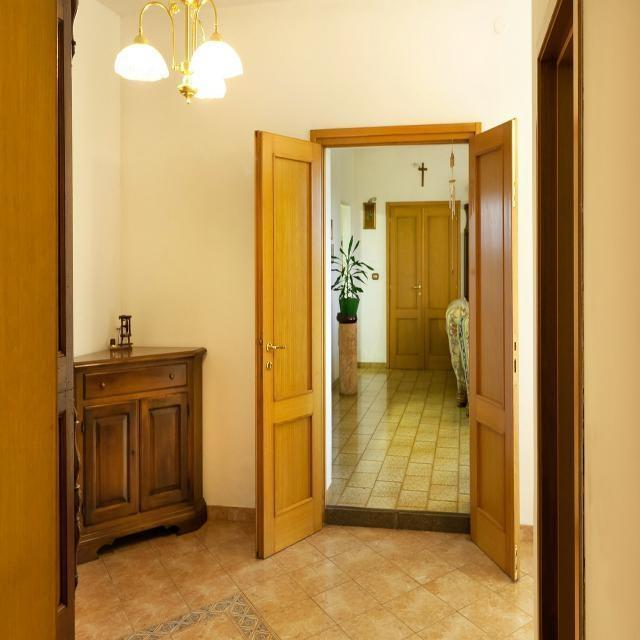door: (254, 129, 324, 559), (467, 117, 518, 581)
